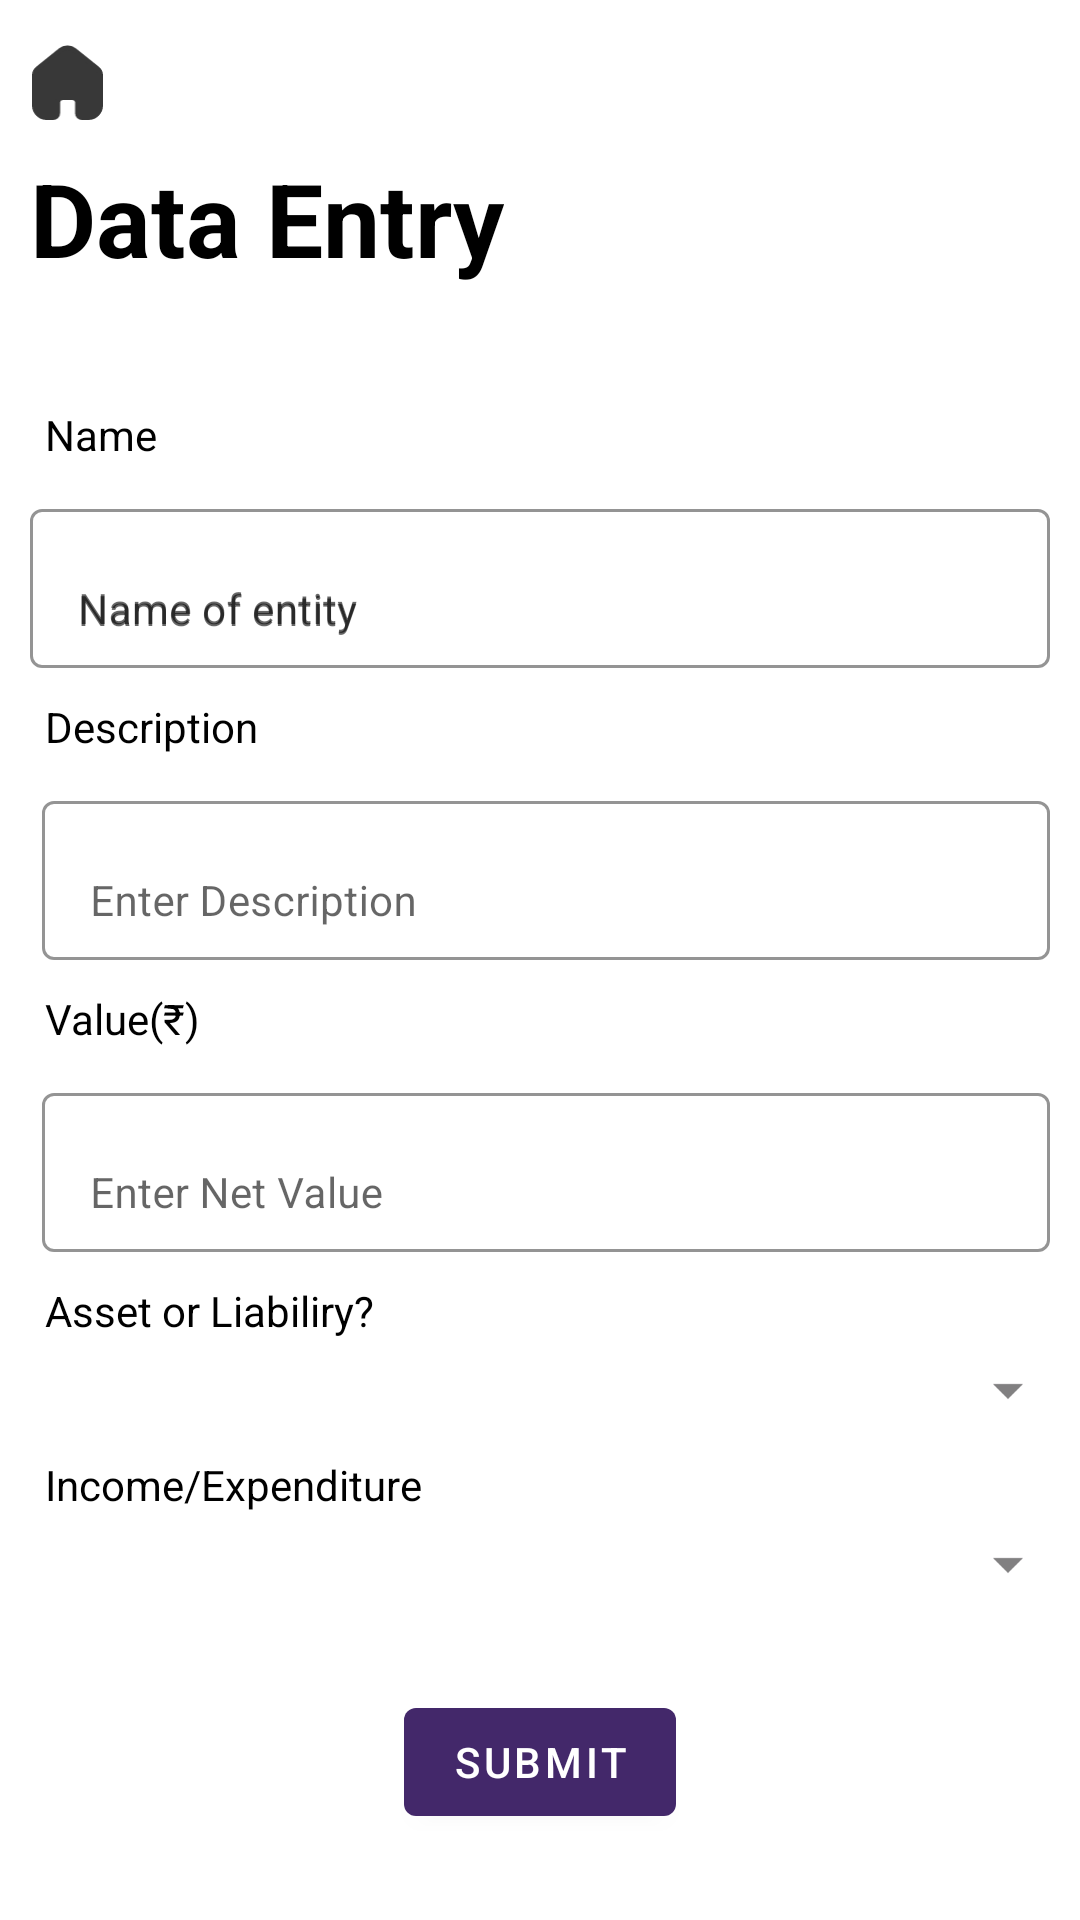

Icon click points for this 1080w x 1920h phone screenshot, format [x,y]:
home: [67,82]
